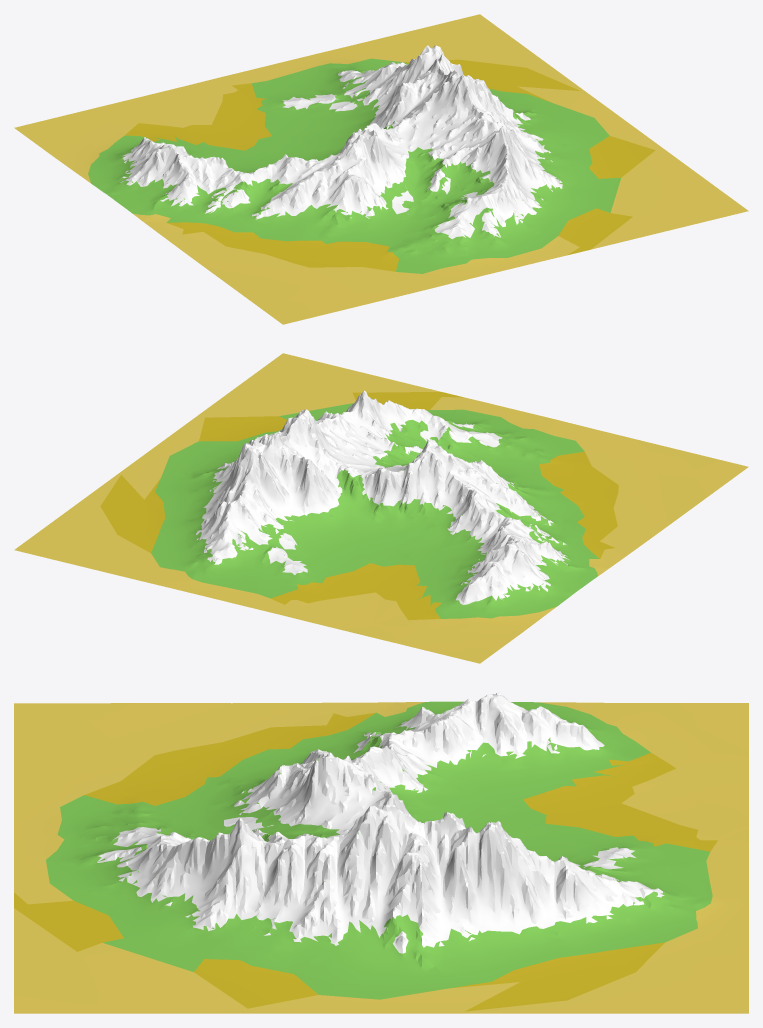
File: SnowyMountainLandscape.fbx
3 views of the same model, one above another, from view 1: azimuth 30°, elevation 25°; view 2: azimuth 150°, elevation 25°; view 3: azimuth 270°, elevation 25° (orthographic). The views are drawn at different scales.
Visible parts, largest first — view 1: Plane; view 2: Plane; view 3: Plane.
Part boxes in pixels (x1=…): Plane: x1=14, y1=14, x2=748, y2=324; Plane: x1=14, y1=353, x2=748, y2=663; Plane: x1=14, y1=692, x2=748, y2=1013.
Size of the model in its own units: 100028 by 15804 by 100028.
